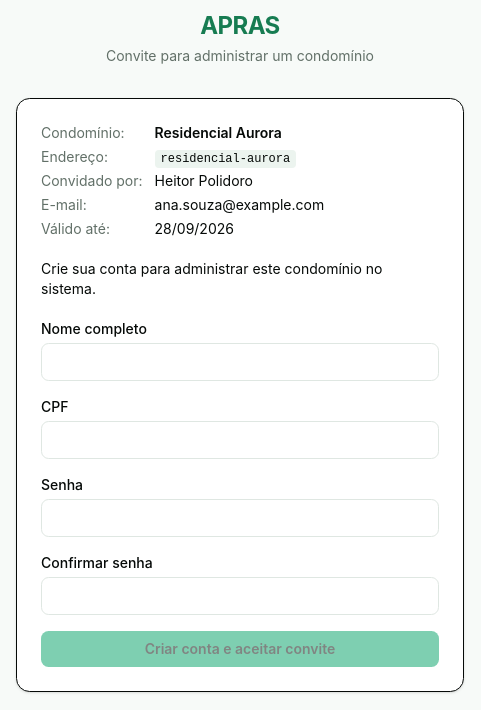
Test: AcceptInvitationPage — the two meanings of 409 on accept › switches to the already-used state when the follow-up preview answers 409
The image size is (481, 710).
Expected: the element with test id "invitation-preview" is shown, [41,124,324,237]
In the field labelled "Nome completo": [240, 362] box [41,343,439,381], type "Ana Souza"
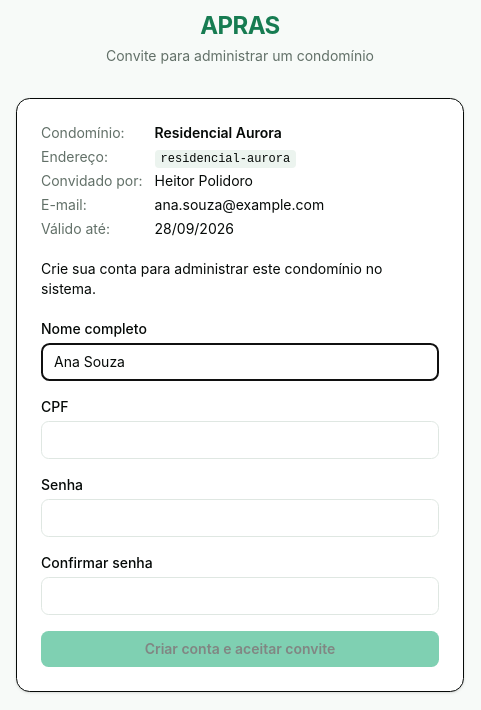
In the field labelled "CPF": [240, 440] box [41,421,439,459], type "529.982.247-25"
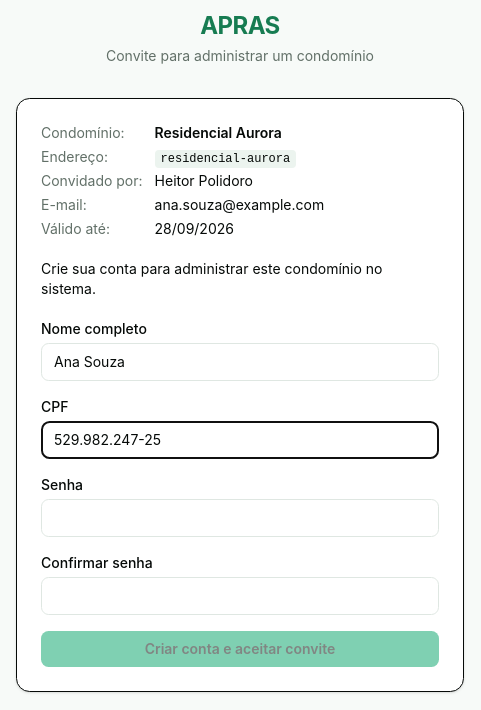
In the password field labelled "Senha": [240, 518] box [41,499,439,537], type "Senha!123"
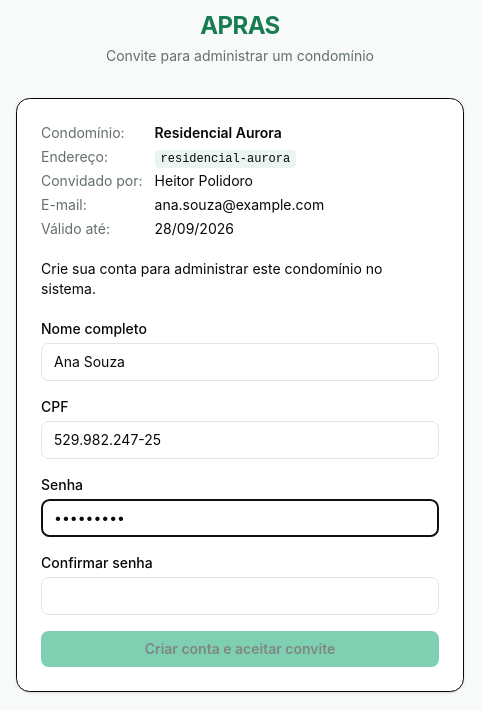
In the password field labelled "Confirmar senha": [240, 596] box [41,577,439,615], type "Senha!123"
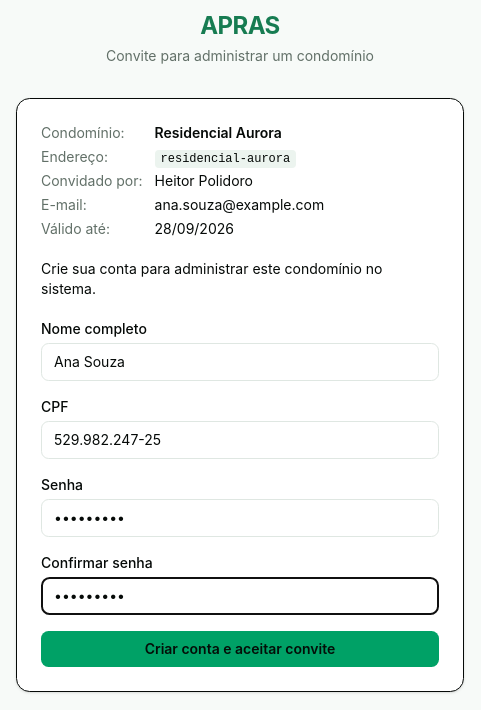
Click the button "Criar conta e aceitar convite": [240, 649] box [41,631,439,667]
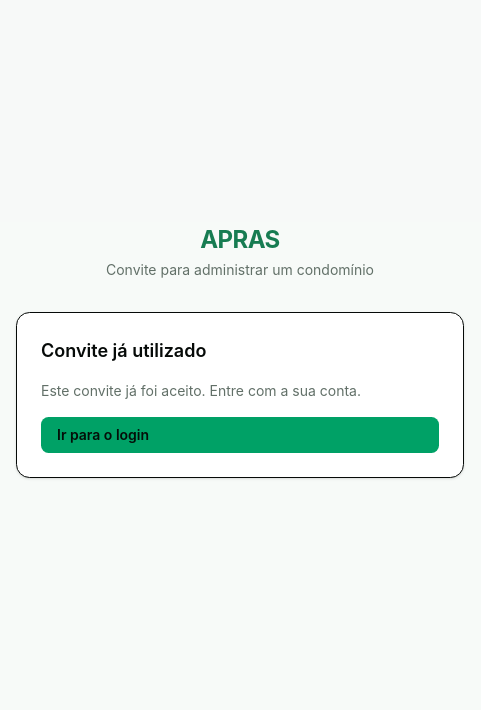
Result: the message with test id "invitation-used" shows "Este convite já foi aceito. Entre com a sua conta." at [41,382,361,399]
Result: the text labelled "Senha" is gone
